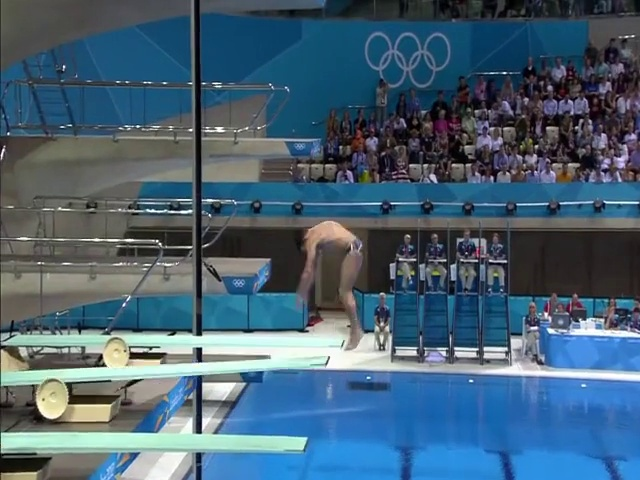diver: (296, 220, 364, 351)
